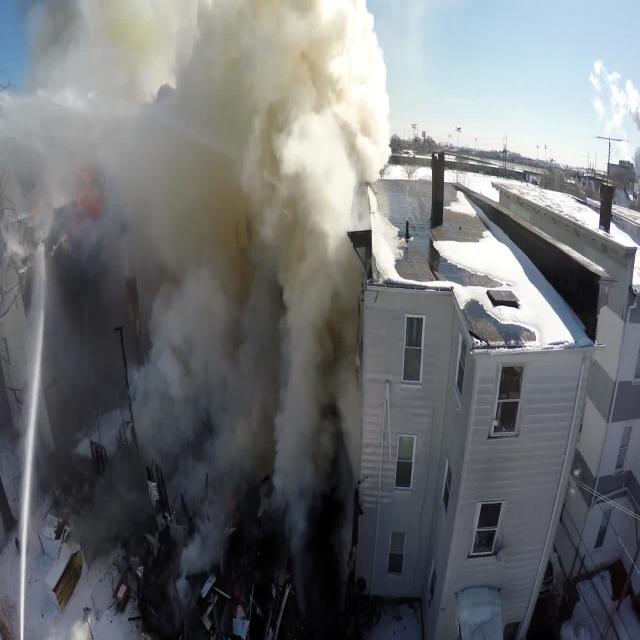Smoke: (0, 0, 385, 477)
